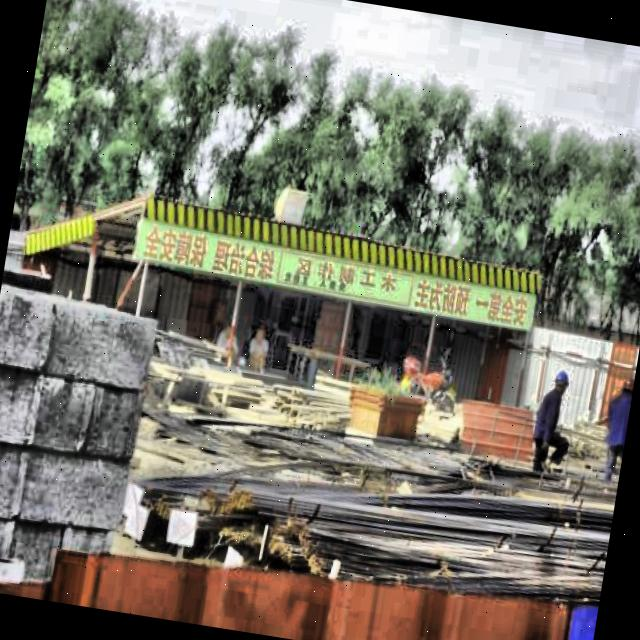helmet: (552, 367, 572, 393), (620, 380, 633, 398)
